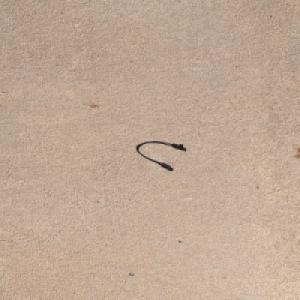Wire: (135, 139, 184, 169)
